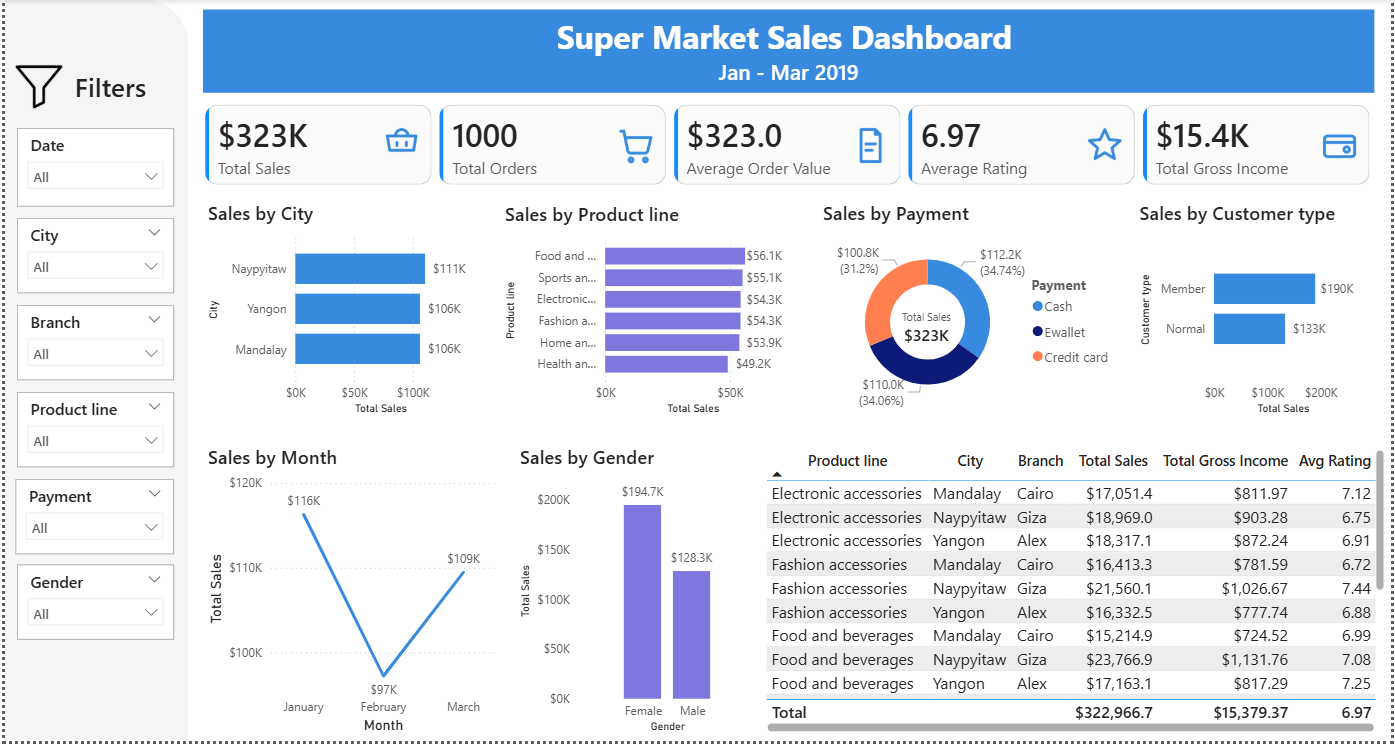

The page's visual inventory and layout, read from the dashboard file:
{"tool":"powerbi","page":{"name":"Page 1","canvas":[1400,750],"ordinal":0},"visuals":[{"type":"textbox","box":[200.1,10.6,1184.2,89.5],"z":0},{"type":"shape","box":[0,0,185.5,750.6],"z":1000},{"type":"slicer","fields":{"Values":["cleaned_supermarket_sales.City"]},"box":[12.5,220.7,158.7,76.1],"z":2000},{"type":"slicer","fields":{"Values":["cleaned_supermarket_sales.Date"]},"box":[12.5,130,158.7,79.3],"z":3000},{"type":"slicer","fields":{"Values":["cleaned_supermarket_sales.Branch"]},"box":[12.5,309.8,158.7,76.1],"z":4000},{"type":"slicer","fields":{"Values":["cleaned_supermarket_sales.Product line"]},"box":[12.5,397.2,158.7,76.1],"z":5000},{"type":"slicer","fields":{"Values":["cleaned_supermarket_sales.Payment"]},"box":[10.8,484.6,160.3,76.1],"z":6000},{"type":"slicer","fields":{"Values":["cleaned_supermarket_sales.Gender"]},"box":[12.5,572.1,158.7,76.1],"z":7000},{"type":"cardVisual","fields":{"Data":["cleaned_supermarket_sales.Total Sales","cleaned_supermarket_sales.Total Orders","cleaned_supermarket_sales.Average Order Value","cleaned_supermarket_sales.Average Rating","cleaned_supermarket_sales.Total Gross Income"]},"box":[185,89.5,1214.5,115.2],"z":8000},{"type":"clusteredBarChart","title":"Sales by City","fields":{"Category":["cleaned_supermarket_sales.City"],"Y":["cleaned_supermarket_sales.Total Sales"]},"box":[200.1,203.2,288.1,221.4],"z":9000},{"type":"clusteredBarChart","title":"Sales by Product line","fields":{"Category":["cleaned_supermarket_sales.Product line"],"Y":["cleaned_supermarket_sales.Total Sales"]},"box":[500.3,204.7,303.2,219.8],"z":10000},{"type":"donutChart","title":"Sales by Payment","fields":{"Category":["cleaned_supermarket_sales.Payment"],"Y":["cleaned_supermarket_sales.Total Sales"]},"box":[821.8,203.2,307.8,221.4],"z":11000},{"type":"clusteredColumnChart","title":"Sales by Gender","fields":{"Category":["cleaned_supermarket_sales.Gender"],"Y":["cleaned_supermarket_sales.Total Sales"]},"box":[500,451.1,263.8,295.7],"z":12000},{"type":"tableEx","fields":{"Values":["cleaned_supermarket_sales.Product line","cleaned_supermarket_sales.City","cleaned_supermarket_sales.Branch","cleaned_supermarket_sales.Total Sales","cleaned_supermarket_sales.Total Gross Income","cleaned_supermarket_sales.Average Rating"]},"box":[752.5,450.8,647.5,294.9],"z":13000},{"type":"lineChart","title":"Sales by Month","fields":{"Y":["cleaned_supermarket_sales.Total Sales"],"Category":["cleaned_supermarket_sales.Month"]},"box":[200,451.1,287.2,295.7],"z":14000},{"type":"cardVisual","fields":{"Data":["cleaned_supermarket_sales.Total Sales"]},"box":[870.3,283.4,126.5,82.6],"z":14500},{"type":"clusteredBarChart","title":"Sales by Customer type","fields":{"Category":["cleaned_supermarket_sales.Customer type"],"Y":["cleaned_supermarket_sales.Total Sales"]},"box":[1141.7,203.2,242.6,221.4],"z":15000},{"type":"image","box":[0,65.8,69.2,47.2],"z":16000},{"type":"textbox","box":[55.7,65.8,101.2,45.5],"z":17000}]}

Visuals, with their boxes in screenshot pixels (x1, y1, x2, y2), scaled from the page's 1400x750 canvas onto the 1395x745 screenshot:
textbox: box=[199, 11, 1379, 99]
shape: box=[0, 0, 185, 744]
slicer - cleaned_supermarket_sales.City: box=[12, 219, 171, 295]
slicer - cleaned_supermarket_sales.Date: box=[12, 129, 171, 208]
slicer - cleaned_supermarket_sales.Branch: box=[12, 308, 171, 383]
slicer - cleaned_supermarket_sales.Product line: box=[12, 395, 171, 470]
slicer - cleaned_supermarket_sales.Payment: box=[11, 481, 170, 557]
slicer - cleaned_supermarket_sales.Gender: box=[12, 568, 171, 644]
cardVisual - cleaned_supermarket_sales.Total Sales x cleaned_supermarket_sales.Total Orders: box=[184, 89, 1394, 203]
"Sales by City" clusteredBarChart: box=[199, 202, 486, 422]
"Sales by Product line" clusteredBarChart: box=[499, 203, 801, 422]
"Sales by Payment" donutChart: box=[819, 202, 1126, 422]
"Sales by Gender" clusteredColumnChart: box=[498, 448, 761, 742]
tableEx - cleaned_supermarket_sales.Product line x cleaned_supermarket_sales.City: box=[750, 448, 1394, 741]
"Sales by Month" lineChart: box=[199, 448, 485, 742]
cardVisual - cleaned_supermarket_sales.Total Sales: box=[867, 282, 993, 364]
"Sales by Customer type" clusteredBarChart: box=[1138, 202, 1379, 422]
image: box=[0, 65, 69, 112]
textbox: box=[56, 65, 156, 111]
